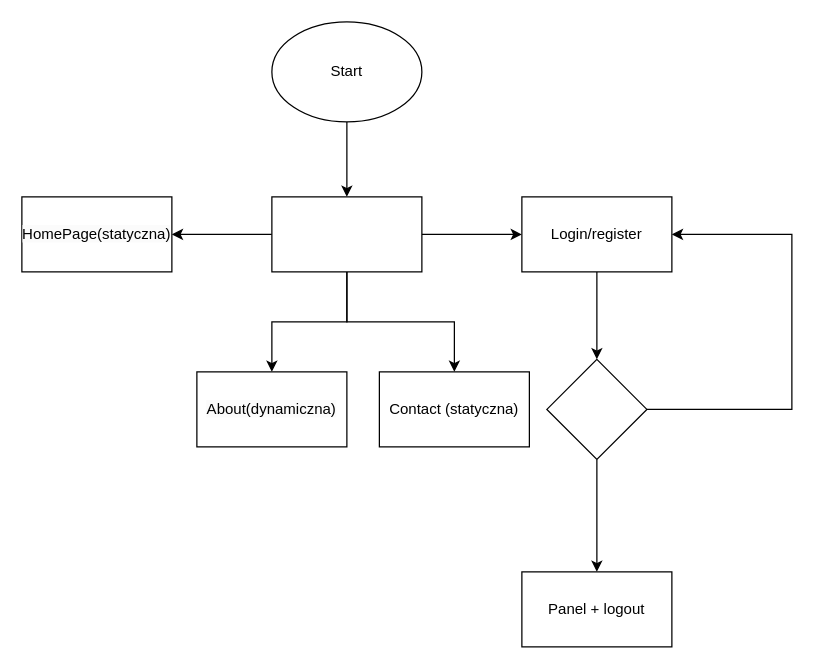
The diagram is 824 pixels wide and 669 high, and some of its shapes have lost their labels. Here are the shapes that lost their labels. From the top down, the centre of each, then its label:
point (346, 234): Nav
point (596, 408): if login
